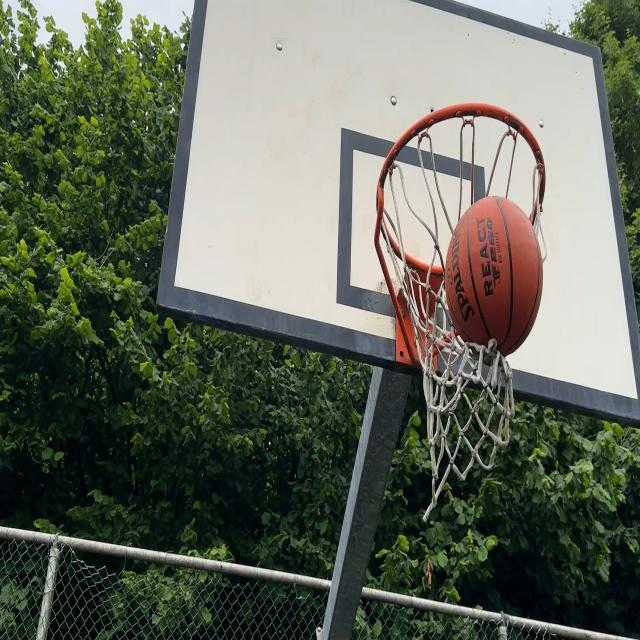Basketball: (445, 199, 543, 356)
